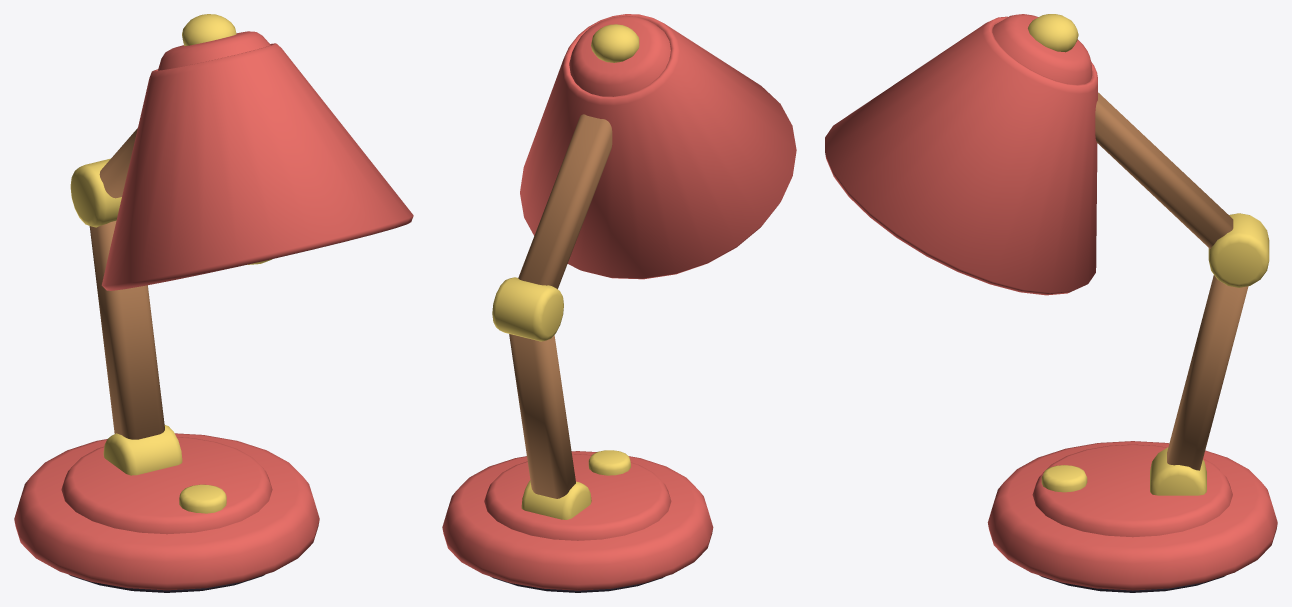
File: lamp.glb
The picture shows the model from 3 angles, left to right: view 1: azimuth 30°, elevation 25°; view 2: azimuth 150°, elevation 25°; view 3: azimuth 270°, elevation 25°; orthographic projection. The views are drawn at different scales.
Parts seen in each view (by area): view 1: ShopLamp_BaseAndShade, ShopLamp_WoodArm, ShopLamp_JointsAndSwitch; view 2: ShopLamp_BaseAndShade, ShopLamp_WoodArm, ShopLamp_JointsAndSwitch; view 3: ShopLamp_BaseAndShade, ShopLamp_WoodArm, ShopLamp_JointsAndSwitch.
Boxes of the visible parts, box(x1,y1,x2,y2) form: ShopLamp_BaseAndShade: box(14, 31, 413, 590); ShopLamp_WoodArm: box(89, 128, 164, 439); ShopLamp_JointsAndSwitch: box(70, 14, 236, 513); ShopLamp_BaseAndShade: box(442, 14, 796, 590); ShopLamp_WoodArm: box(509, 114, 612, 498); ShopLamp_JointsAndSwitch: box(492, 24, 639, 519); ShopLamp_BaseAndShade: box(825, 14, 1277, 590); ShopLamp_WoodArm: box(1095, 92, 1248, 470); ShopLamp_JointsAndSwitch: box(1028, 14, 1269, 495).
Size of the model in its own units: 0.16 by 0.3038 by 0.2385.
